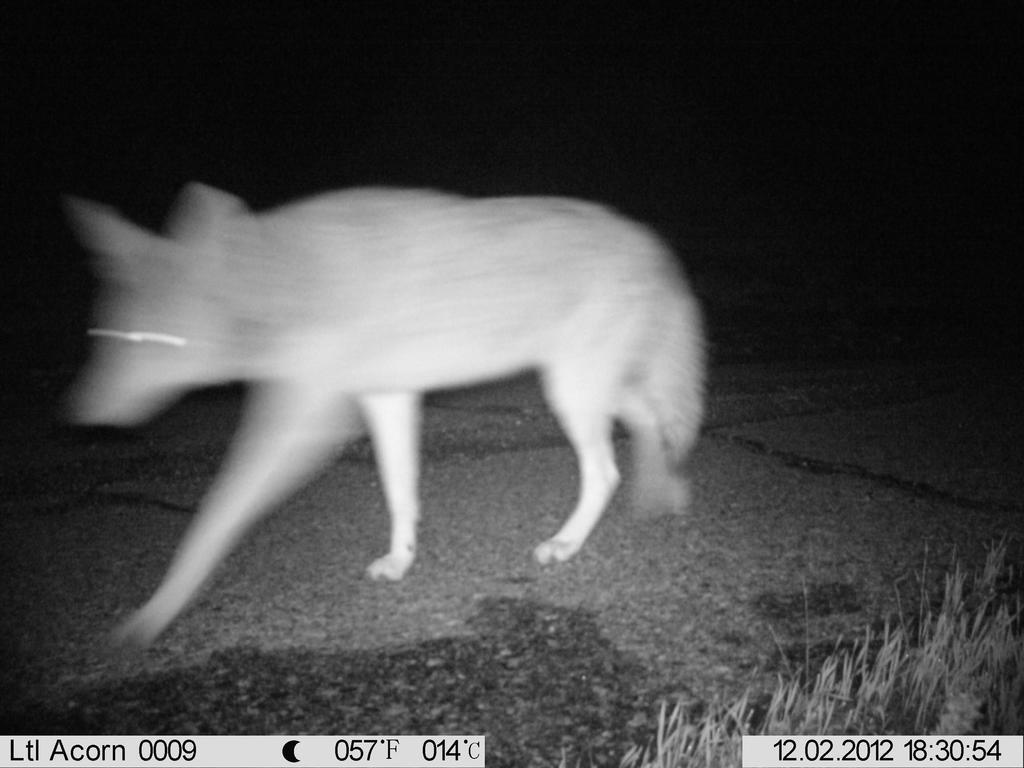coyote: (54, 158, 741, 675)
